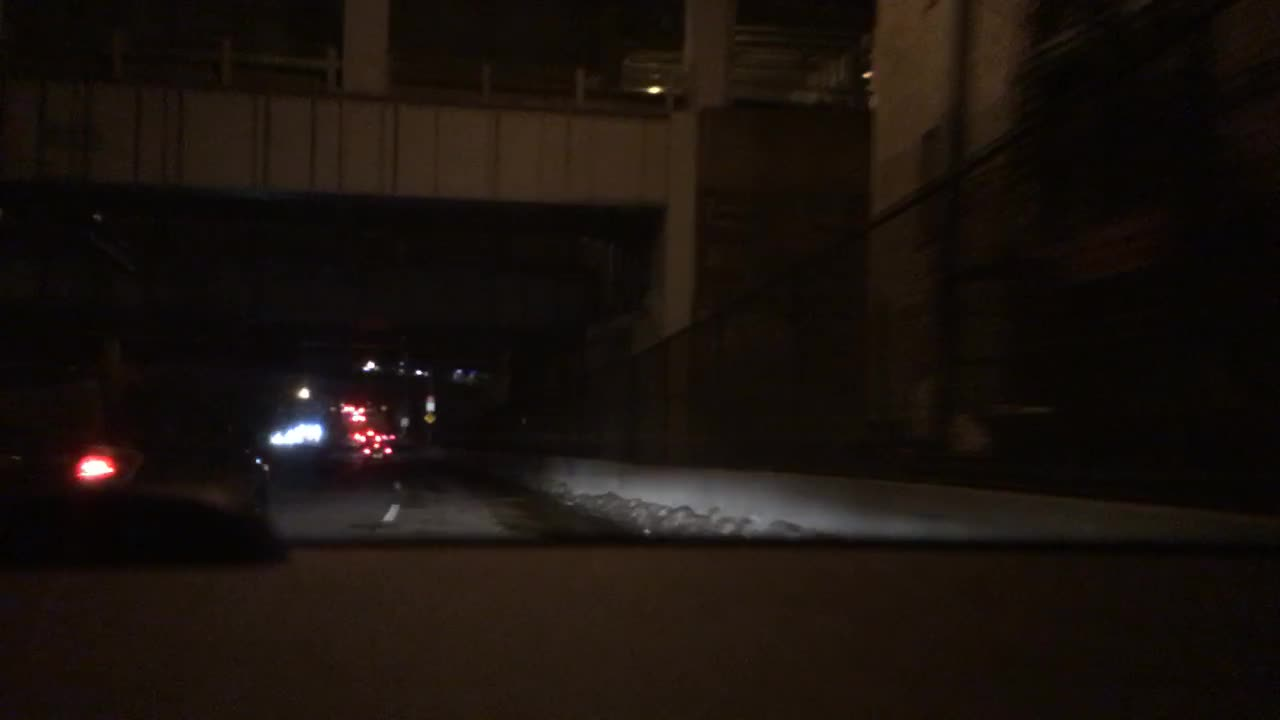car: (0, 425, 267, 524), (364, 441, 396, 462), (270, 431, 302, 450), (297, 423, 321, 444), (337, 428, 358, 450), (358, 425, 379, 444), (376, 431, 394, 443)
